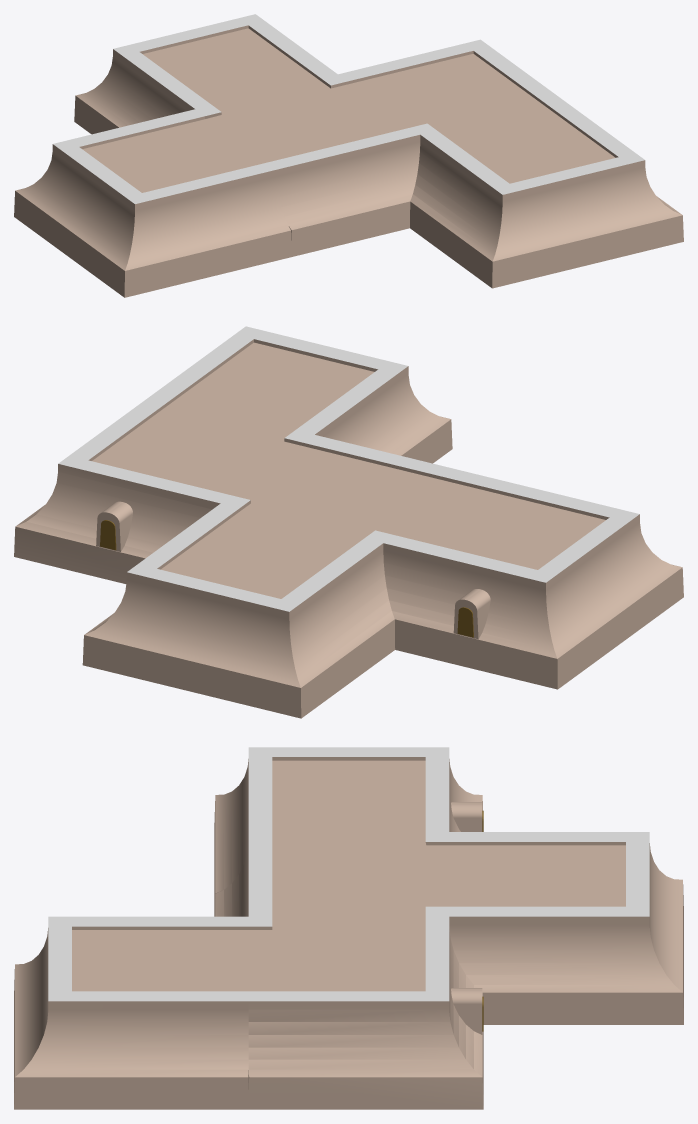
Rendered from Houses_1.fbx.
3 views of the same model, one above another, from view 1: azimuth 30°, elevation 25°; view 2: azimuth 150°, elevation 25°; view 3: azimuth 270°, elevation 25° (orthographic). The views are drawn at different scales.
Parts seen in each view (by area): view 1: DCHouse_U.002, DCHouse_U.001, DCHouse_DoubleCorner.001, DCHouse_U.003, DCHouse_Corner.001; view 2: DCHouse_U.003, DCHouse_U.002, DCHouse_Corner.001, DCHouse_U.001, DCHouse_DoubleCorner.001, HouseDoor.001, HouseDoor.002; view 3: DCHouse_U.001, DCHouse_Corner.001, DCHouse_U.003, DCHouse_U.002, DCHouse_DoubleCorner.001, HouseDoor.002, HouseDoor.001.
Part boxes in pixels (x1,y1,x2,y2): DCHouse_U.002: (14, 109, 291, 297); DCHouse_U.001: (410, 100, 683, 288); DCHouse_DoubleCorner.001: (195, 74, 420, 256); DCHouse_U.003: (74, 14, 337, 134); DCHouse_Corner.001: (338, 39, 562, 134); DCHouse_U.003: (82, 503, 395, 718); DCHouse_U.002: (383, 474, 683, 689); DCHouse_Corner.001: (14, 395, 314, 583); DCHouse_U.001: (152, 326, 452, 463); DCHouse_DoubleCorner.001: (221, 435, 476, 542); HouseDoor.001: (453, 589, 490, 639); HouseDoor.002: (96, 501, 132, 551); DCHouse_U.001: (14, 916, 249, 1109); DCHouse_Corner.001: (248, 916, 483, 1109); DCHouse_U.003: (449, 832, 683, 1024); DCHouse_U.002: (214, 747, 482, 916); DCHouse_DoubleCorner.001: (214, 832, 449, 920); HouseDoor.002: (451, 988, 483, 1034); HouseDoor.001: (451, 802, 483, 831).
Size of the model in its own units: 502 by 502 by 77.66.
